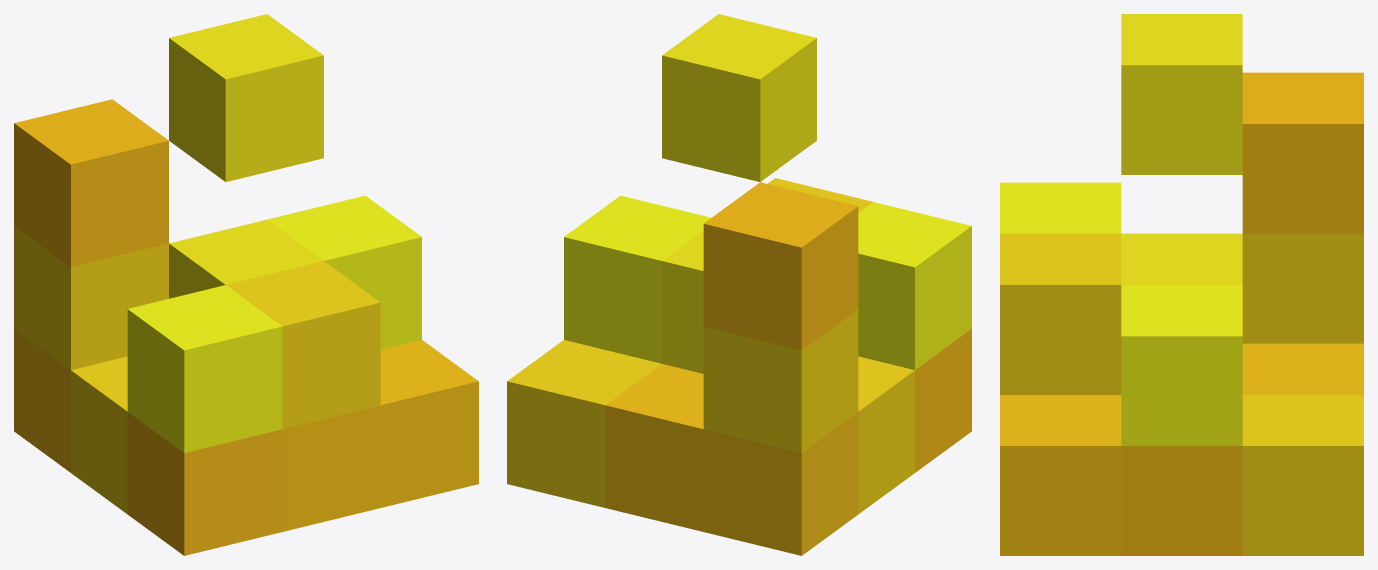
File: wall_torch-4-flames.obj
The picture shows the model from 3 angles, left to right: view 1: azimuth 30°, elevation 25°; view 2: azimuth 150°, elevation 25°; view 3: azimuth 270°, elevation 25°; orthographic projection. The views are drawn at different scales.
Parts seen in each view (by area): view 1: flames; view 2: flames; view 3: flames.
Part boxes in pixels (bbox=[...]): flames: bbox=[14, 14, 478, 555]; flames: bbox=[507, 14, 971, 555]; flames: bbox=[1000, 14, 1363, 555].
Size of the model in its own units: 0.3 by 0.4 by 0.3.
Materials: 1 (1 with a texture image).
